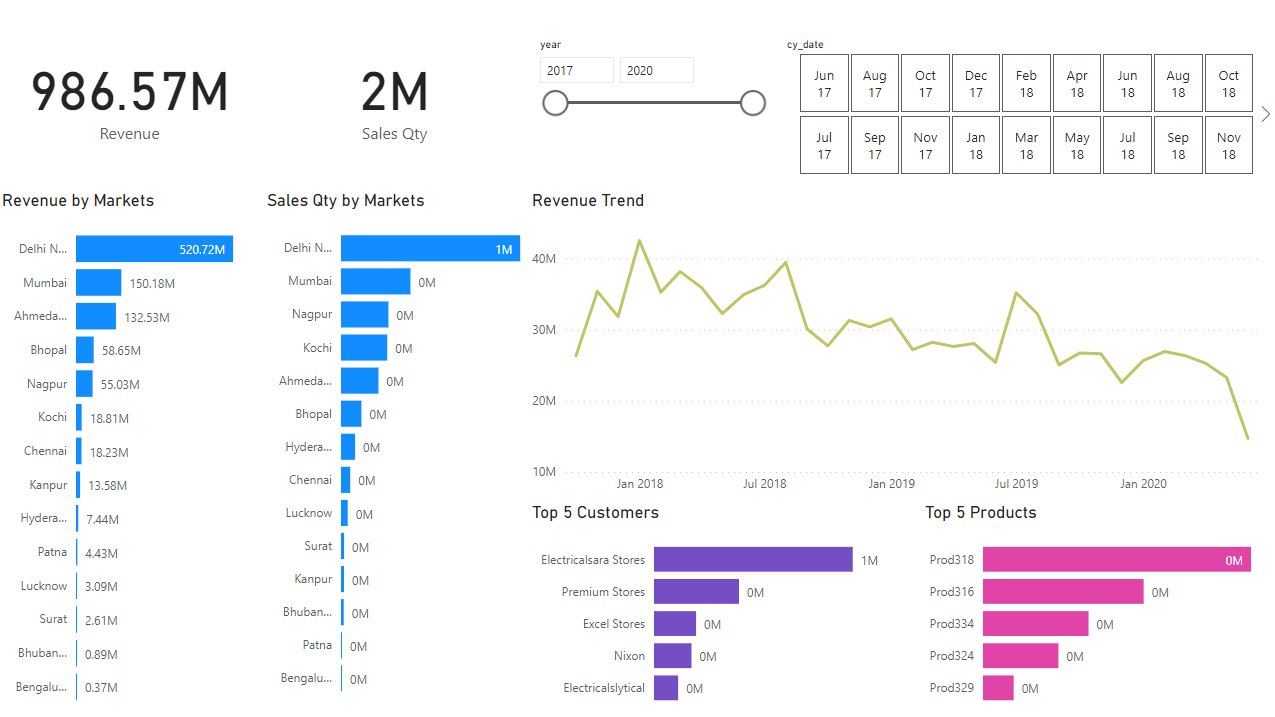

What the dashboard file says about the page in this screenshot:
{"tool":"powerbi","page":{"name":"Page 1","canvas":[1280,720],"ordinal":0},"visuals":[{"type":"card","fields":{"Values":["BaseMeasures.Revenue"]},"box":[0,0,264.8,190.6],"z":0},{"type":"card","fields":{"Values":["BaseMeasures.Sales Qty"]},"box":[264.8,0,264.8,190.6],"z":1000},{"type":"barChart","title":"Revenue by Markets","fields":{"Y":["BaseMeasures.Revenue"],"Category":["sales markets.markets_name"]},"box":[0,190.6,264.8,529.7],"z":2000},{"type":"barChart","title":"Sales Qty by Markets","fields":{"Y":["BaseMeasures.Sales Qty"],"Category":["sales markets.markets_name"]},"box":[265,190.7,265,520.2],"z":3000},{"type":"slicer","fields":{"Values":["sales date.year"]},"box":[530,34,247.4,147.7],"z":4000},{"type":"slicer","fields":{"Values":["sales date.cy_date"]},"box":[777.4,34.2,502.6,147.7],"z":5000},{"type":"barChart","title":"Top 5 Customers","fields":{"Y":["BaseMeasures.Sales Qty"],"Category":["sales customers.custmer_name"]},"box":[530,502.6,375.5,217.1],"z":6000},{"type":"barChart","title":"Top 5 Products","fields":{"Y":["BaseMeasures.Sales Qty"],"Category":["sales transactions.product_code"]},"box":[923.1,502.6,356.9,217.1],"z":7000},{"type":"lineChart","title":"Revenue Trend","fields":{"Y":["BaseMeasures.Revenue"],"Category":["sales date.cy_date"]},"box":[530,190.7,750,311.9],"z":8000}]}

Visuals, with their boxes in screenshot pixels (x1, y1, x2, y2), scaled from the page's 1280x720 canvas onto the 1275x717 screenshot:
card - BaseMeasures.Revenue: 0/0/264/190
card - BaseMeasures.Sales Qty: 264/0/528/190
"Revenue by Markets" barChart: 0/190/264/716
"Sales Qty by Markets" barChart: 264/190/528/708
slicer - sales date.year: 528/34/774/181
slicer - sales date.cy_date: 774/34/1274/181
"Top 5 Customers" barChart: 528/501/902/716
"Top 5 Products" barChart: 919/501/1274/716
"Revenue Trend" lineChart: 528/190/1274/501
